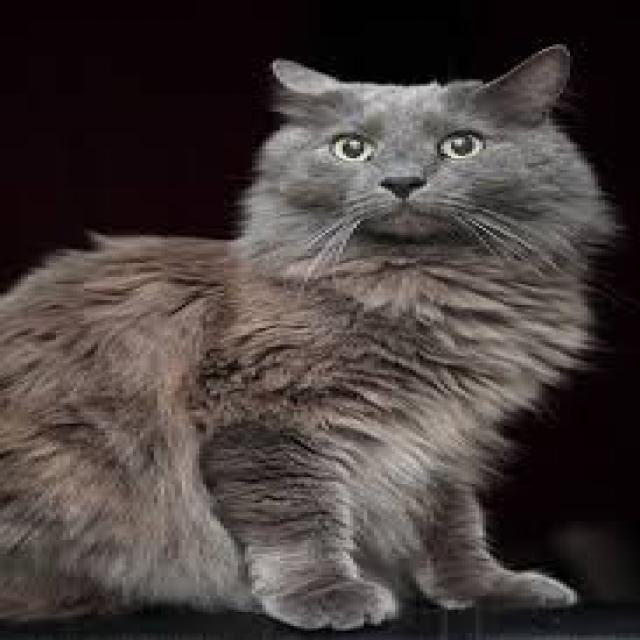Cat: (0, 42, 631, 640)
